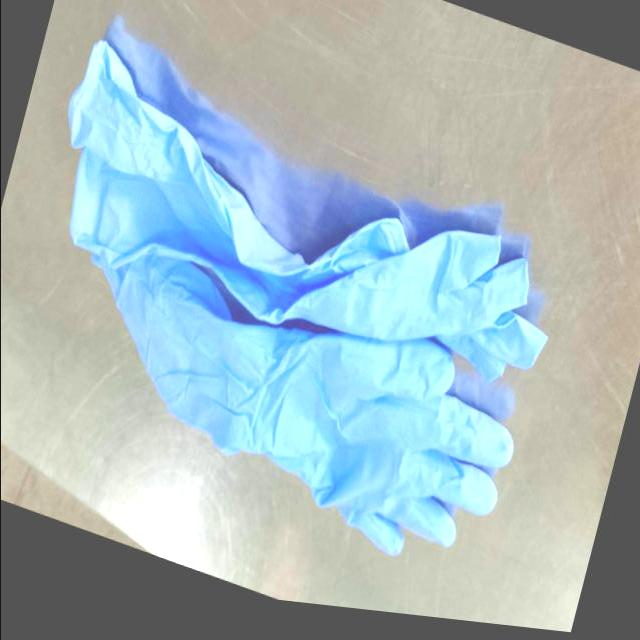General: (65, 19, 550, 557)
